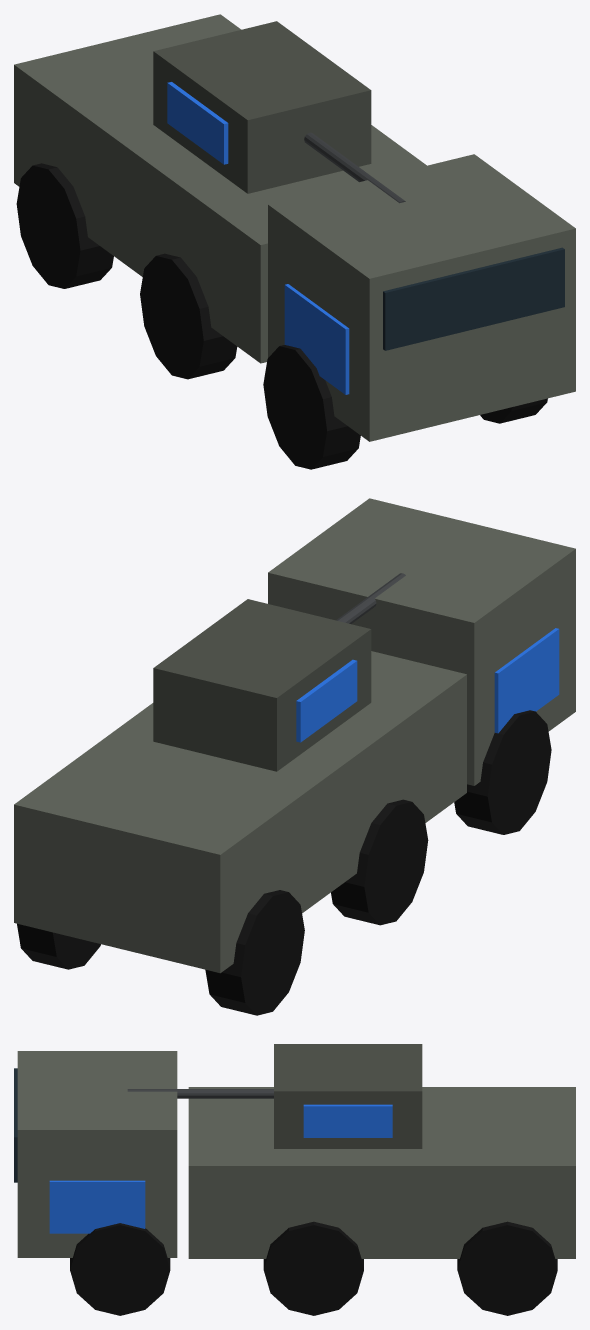
The model's file is eu_cuas_truck.glb.
3 views of the same model, one above another, from view 1: azimuth 30°, elevation 25°; view 2: azimuth 150°, elevation 25°; view 3: azimuth 270°, elevation 25° (orthographic). The views are drawn at different scales.
Visible parts, largest first — view 1: cab, body, turret, windshield, wheel_l1, wheel_l2, wheel_l0, team_door_l, team_panel_l, barrel, wheel_r0; view 2: body, cab, turret, wheel_l2, wheel_l1, wheel_l0, team_door_l, team_panel_l, wheel_r2, barrel; view 3: body, cab, turret, wheel_r2, wheel_r1, wheel_r0, team_door_r, team_panel_r, barrel, windshield.
Boxes of the visible parts, box(x1,y1,x2,y2) form: cab: box(268, 154, 575, 441); body: box(14, 14, 426, 363); turret: box(153, 21, 371, 193); windshield: box(383, 247, 564, 350); wheel_l1: box(140, 253, 237, 379); wheel_l2: box(16, 163, 113, 288); wheel_l0: box(263, 345, 360, 469); team_door_l: box(284, 284, 349, 394); team_panel_l: box(167, 82, 228, 164); barrel: box(304, 132, 405, 203); wheel_r0: box(480, 398, 547, 423); body: box(14, 651, 466, 973); cab: box(268, 498, 575, 785); turret: box(153, 599, 371, 771); wheel_l2: box(205, 890, 304, 1015); wheel_l1: box(331, 799, 428, 925); wheel_l0: box(454, 710, 551, 834); team_door_l: box(494, 628, 559, 733); team_panel_l: box(296, 659, 357, 742); wheel_r2: box(17, 923, 100, 969); barrel: box(336, 573, 405, 623); body: box(188, 1087, 575, 1258); cab: box(17, 1051, 177, 1257); turret: box(274, 1044, 422, 1148); wheel_r2: box(457, 1221, 557, 1315); wheel_r1: box(263, 1221, 363, 1315); wheel_r0: box(70, 1223, 170, 1315); team_door_r: box(49, 1180, 145, 1233); team_panel_r: box(303, 1104, 392, 1137); barrel: box(127, 1089, 273, 1098); windshield: box(14, 1068, 17, 1182).
Size of the model in its own units: 2.5 by 2.78 by 6.91.
